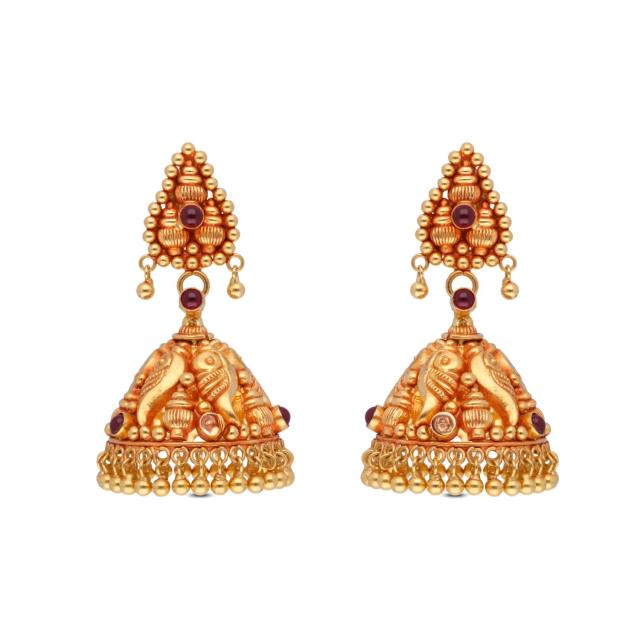missing gem: (431, 413, 455, 435), (200, 414, 223, 435)
